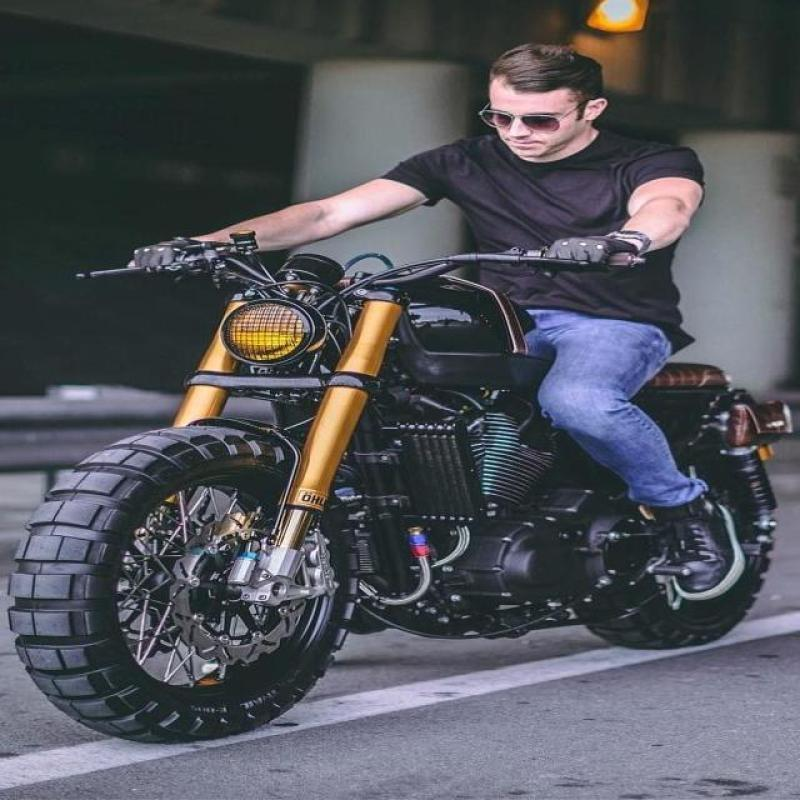nohelmet: (447, 33, 650, 169)
